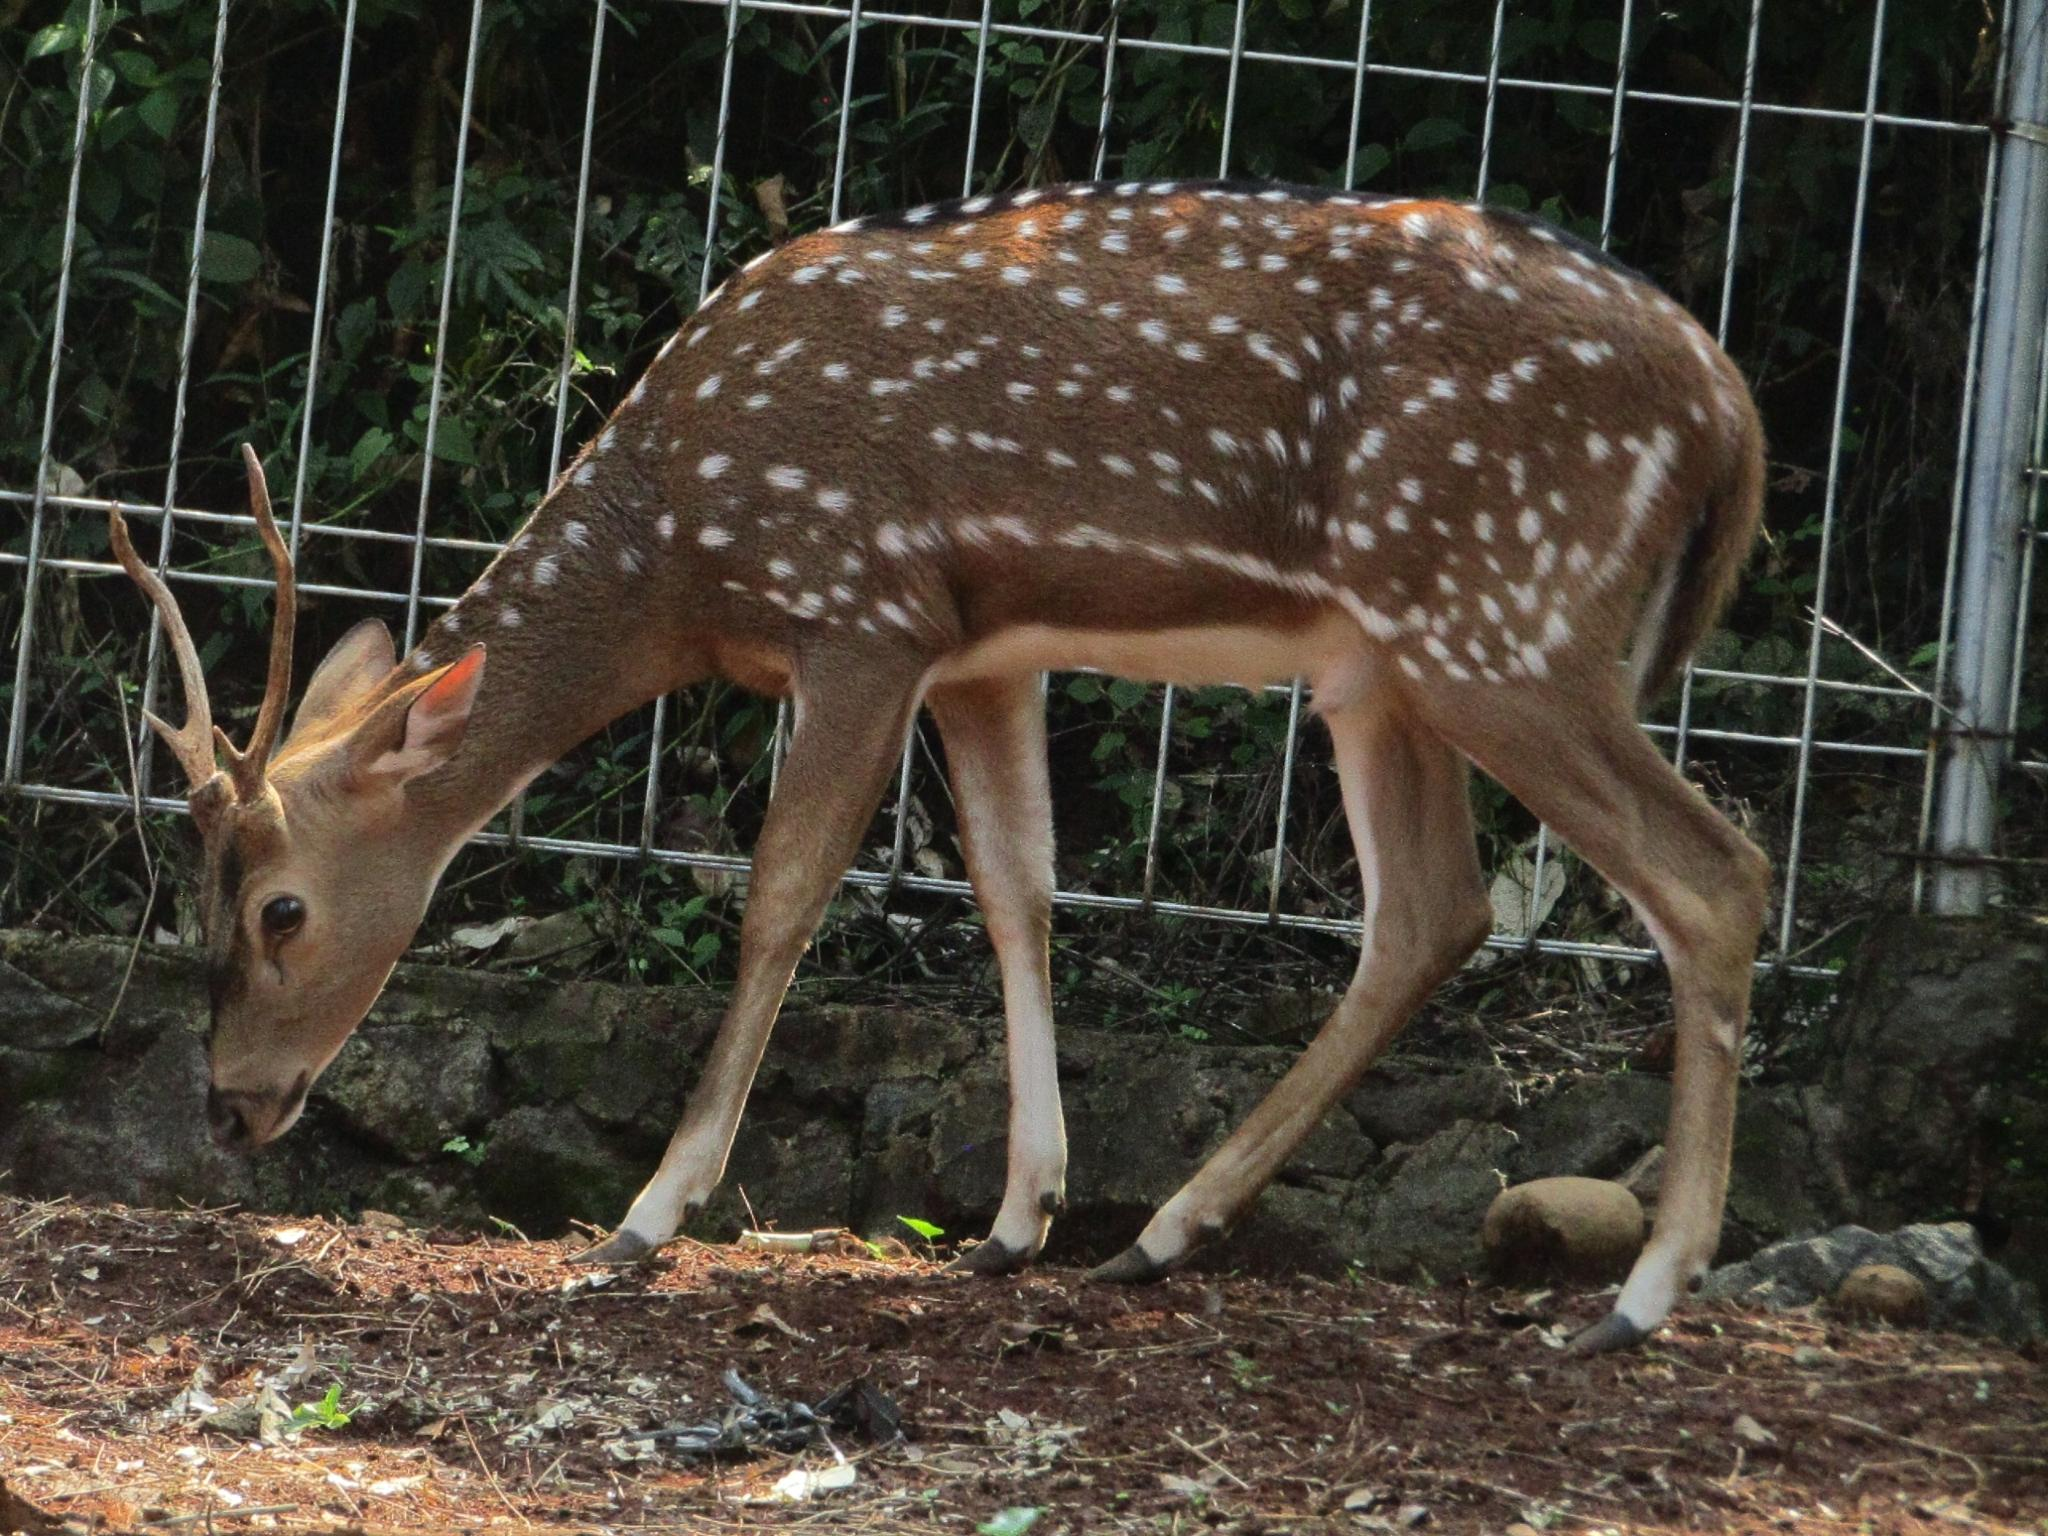Deer: (111, 182, 1771, 1347)
